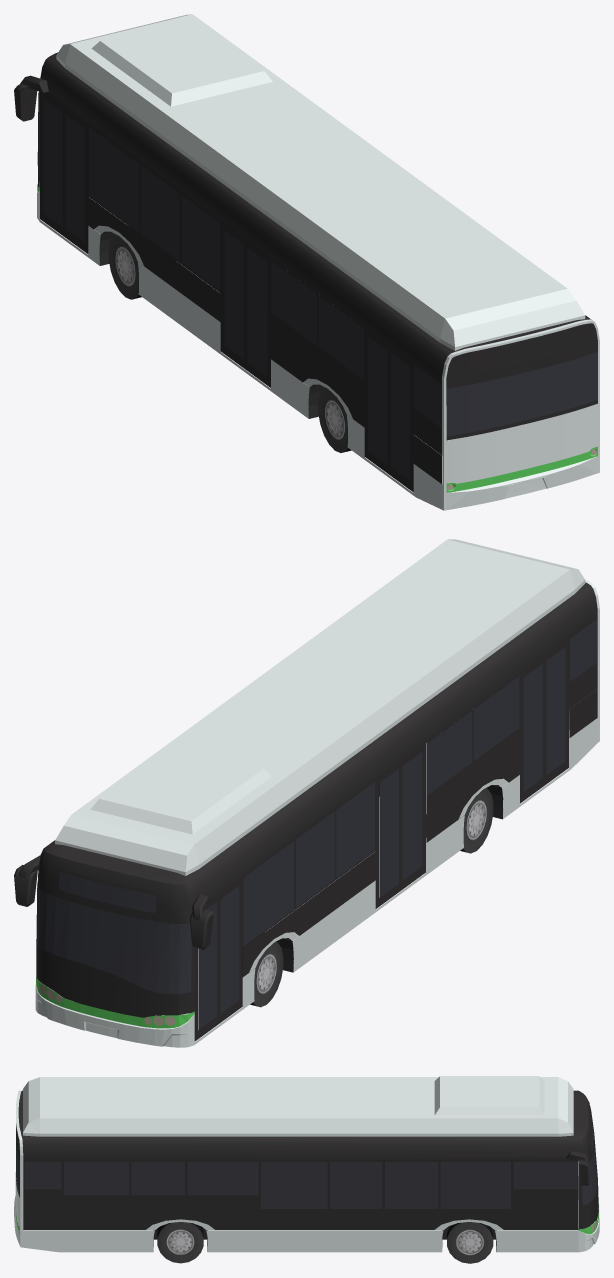
File: Bus.glb
3 renders of one model, top to bottom at view 1: azimuth 30°, elevation 25°; view 2: azimuth 150°, elevation 25°; view 3: azimuth 270°, elevation 25°, orthographic. The views are drawn at different scales.
Visible parts, largest first — view 1: Car_Cheshen_2, Bus_color; view 2: Car_Cheshen_2, Bus_color; view 3: Car_Cheshen_2, Bus_color.
Boxes of the visible parts, x1,y1,x2,y2 form: Car_Cheshen_2: (14,52,597,492); Bus_color: (37,14,599,510); Car_Cheshen_2: (14,582,597,1041); Bus_color: (35,539,599,1047); Car_Cheshen_2: (15,1090,598,1263); Bus_color: (14,1076,599,1252).
Size of the model in its own units: 3.15 by 3.33 by 11.99.
7 materials, 7 textured.
